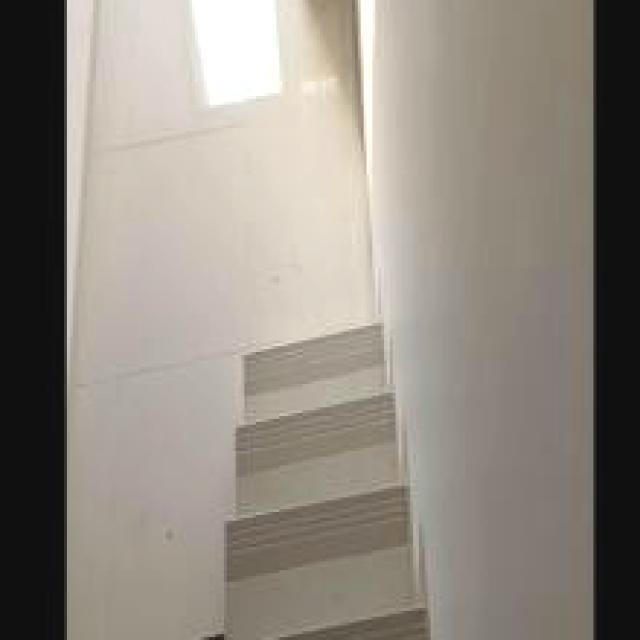downstair: (228, 350, 420, 640)
